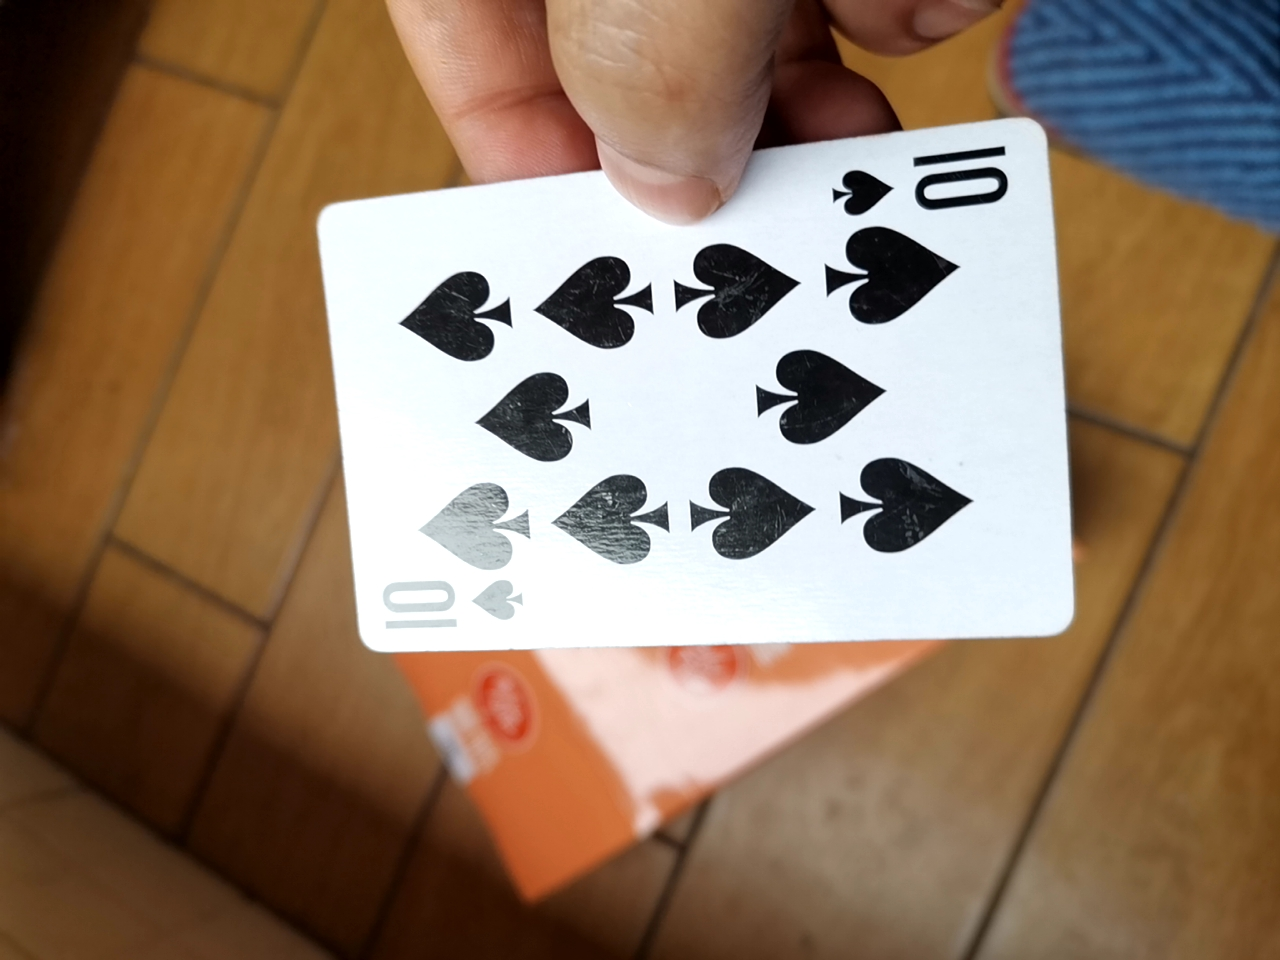ht 10: (317, 113, 1081, 674)
